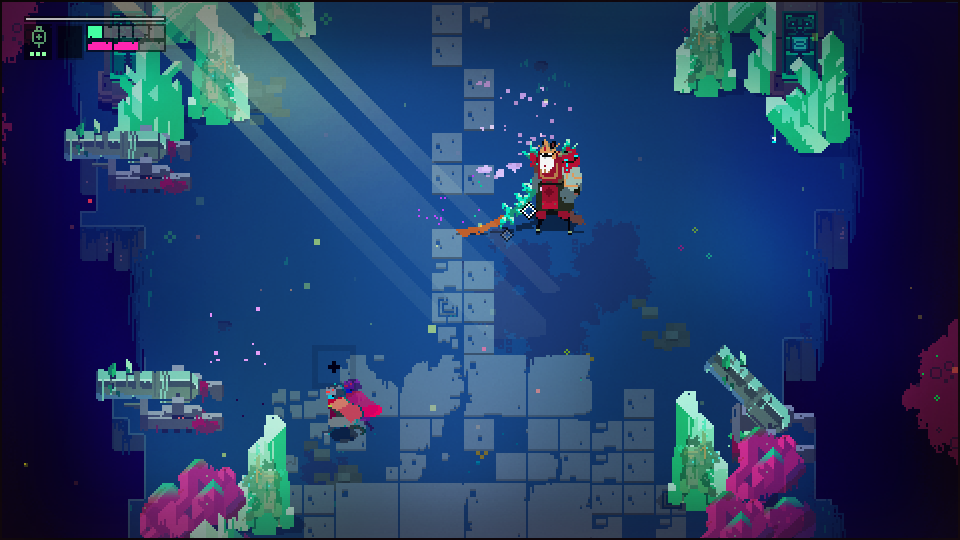hanged_man: (502, 136, 581, 233)
player: (325, 381, 363, 434)
